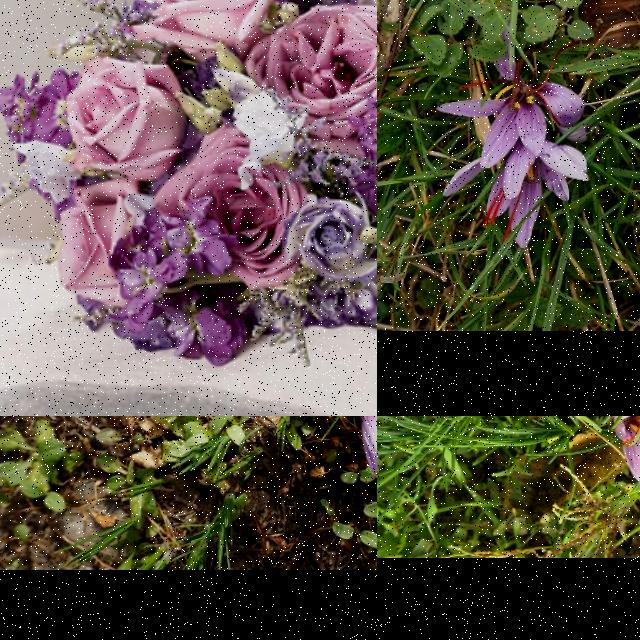flower: (360, 416, 377, 493)
overlap: (436, 28, 590, 248)
